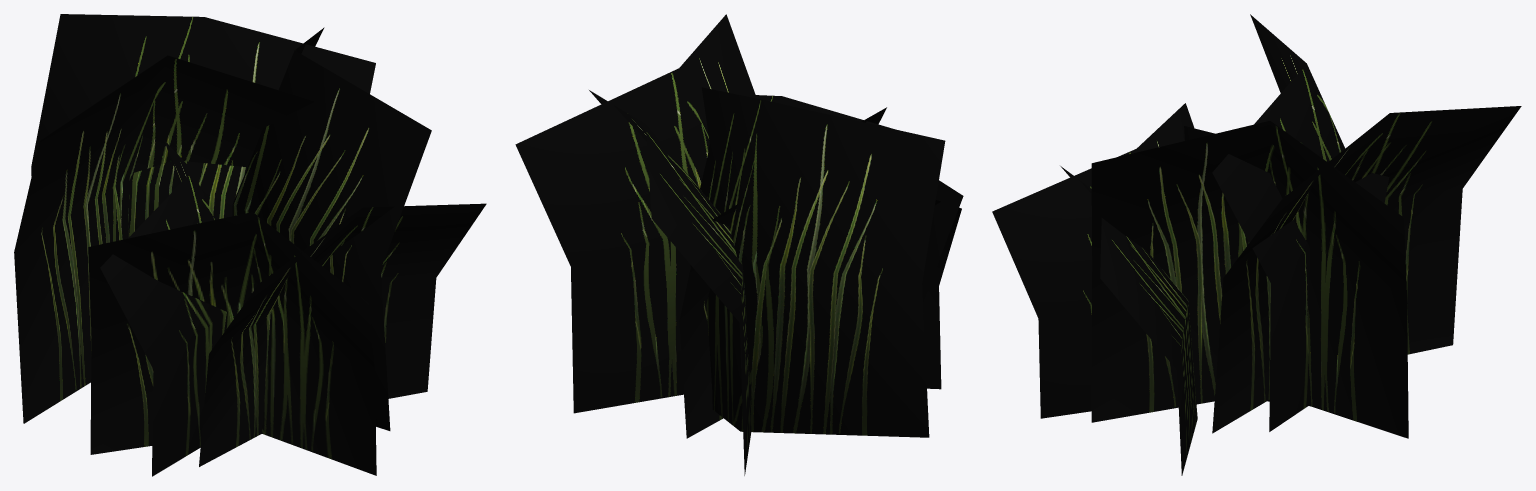
File: GrassTall.fbx
The picture shows the model from 3 angles, left to right: view 1: azimuth 30°, elevation 25°; view 2: azimuth 150°, elevation 25°; view 3: azimuth 270°, elevation 25°; orthographic projection. The views are drawn at different scales.
Visible parts, largest first — view 1: GrassTall_LOD0; view 2: GrassTall_LOD0; view 3: GrassTall_LOD0.
Part boxes in pixels (left/top/right/bottom): GrassTall_LOD0: left=14, top=14, right=486, bottom=476; GrassTall_LOD0: left=515, top=14, right=963, bottom=475; GrassTall_LOD0: left=992, top=14, right=1521, bottom=475.
Size of the model in its own units: 107 by 92.97 by 138.
